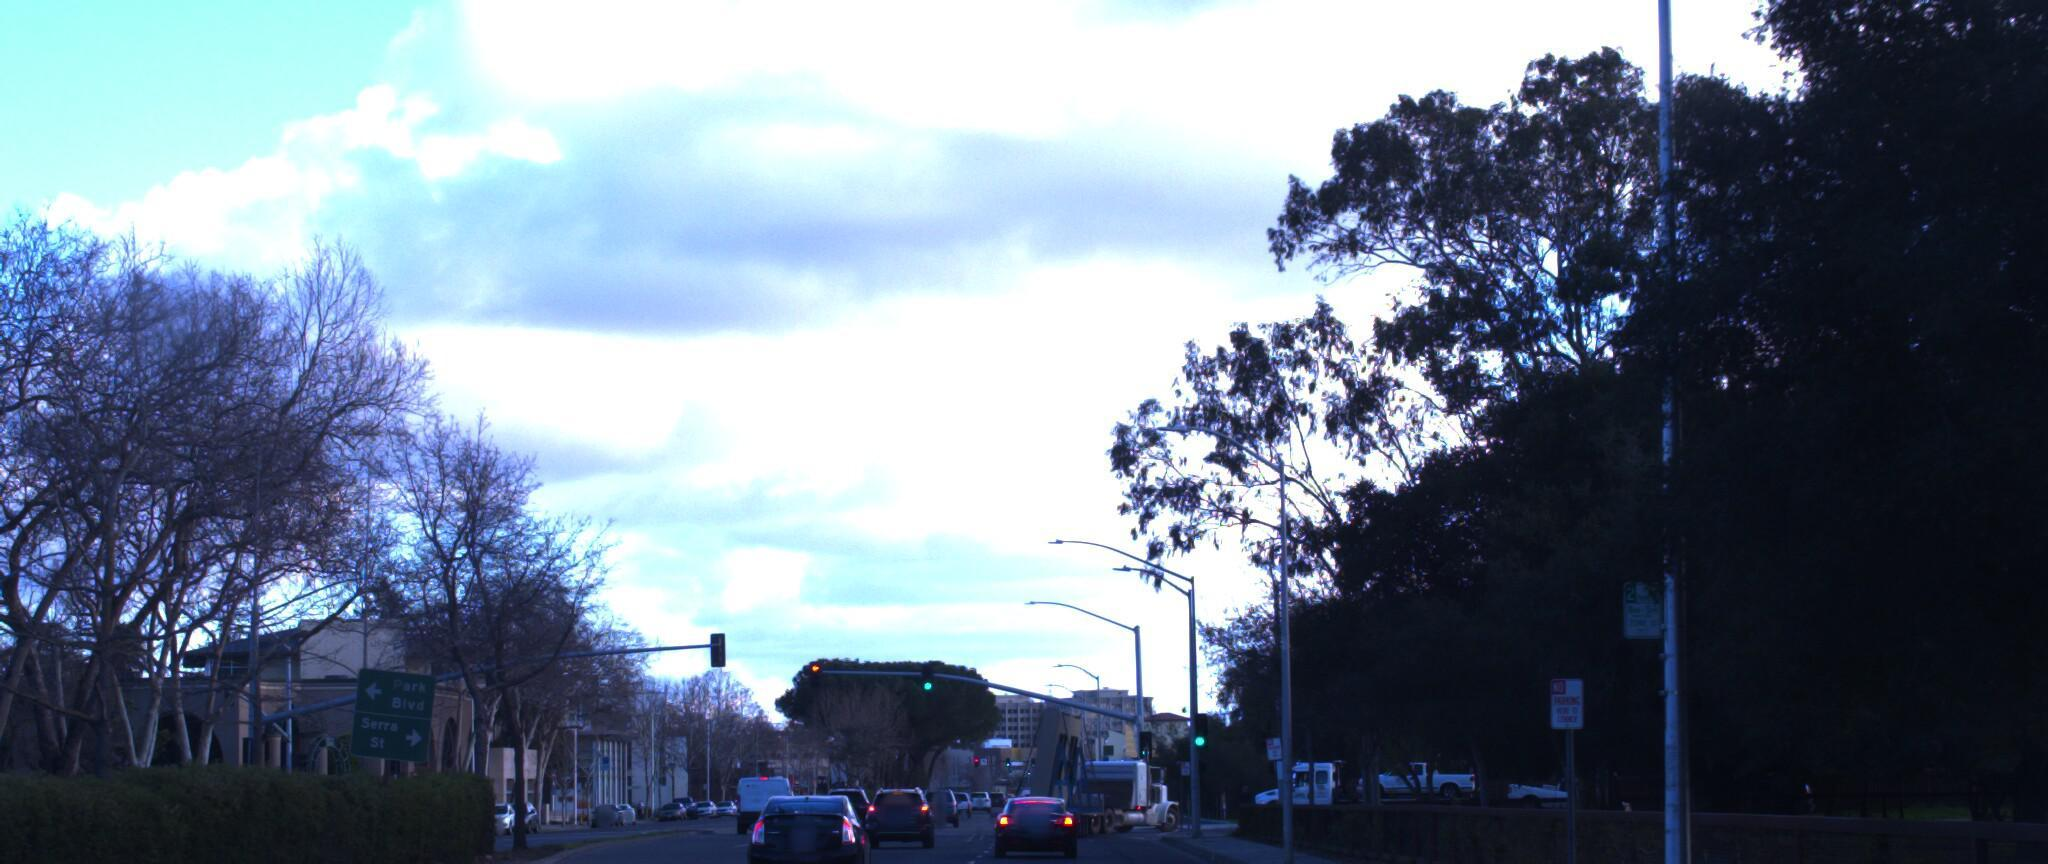car: (744, 766, 871, 864), (990, 771, 1072, 837), (876, 764, 947, 827)
